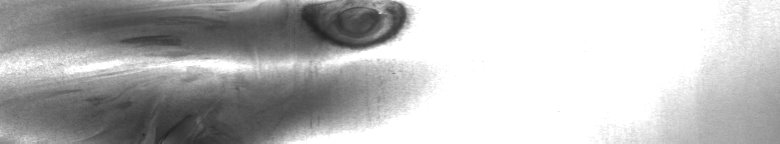ke: (4, 4, 416, 136)
